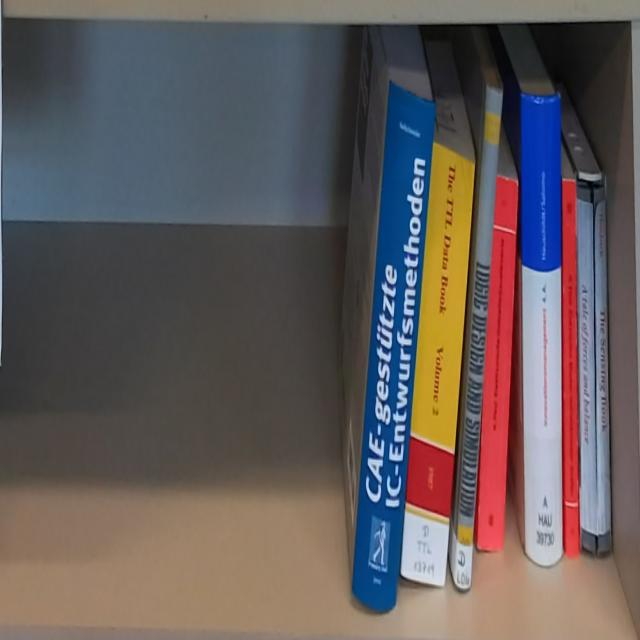Book Spine: (351, 79, 437, 615), (400, 140, 474, 587), (454, 82, 504, 592), (523, 90, 563, 566), (476, 174, 518, 551), (578, 182, 613, 555), (562, 179, 580, 558)
